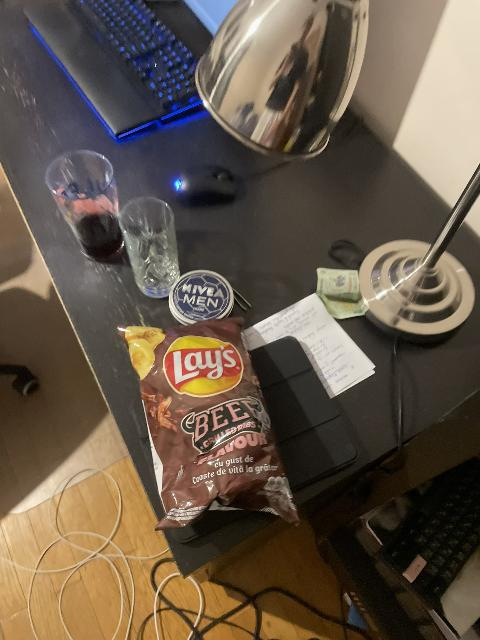Lays Beef Grilled Ribs 125g: (113, 318, 299, 531)
